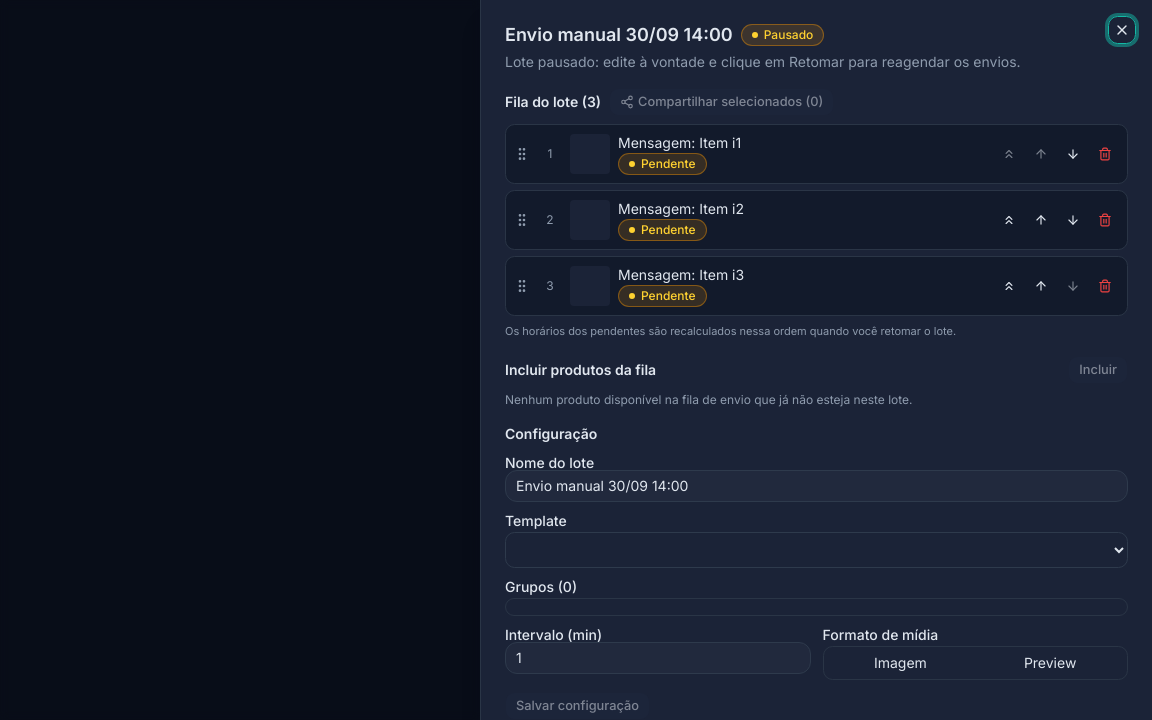
Scenario: BatchManageDrawer › lote pausado › botão "próximo envio" leva o item para o topo da fila
The width and height of the screenshot is (1152, 720).
Expected: the text "Mensagem: Item i1" is shown, [618,134,741,151]
Expected: the button named "Enviar a seguir" in the row of "Mensagem: Item i1" is disabled, [995,140,1023,168]
Click the button named "Enviar a seguir" in the row of "Mensagem: Item i3": point(1009, 286) [995,272,1023,300]
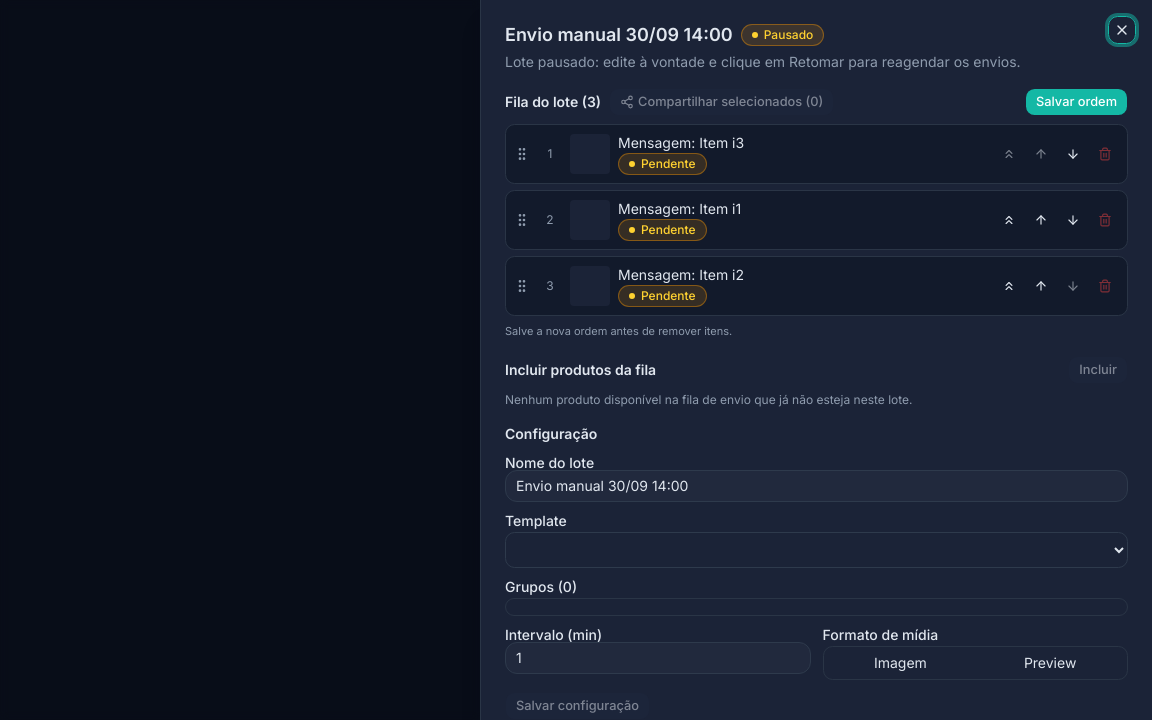
Expected: the button "Salvar ordem" is shown, [1025,88,1128,116]
